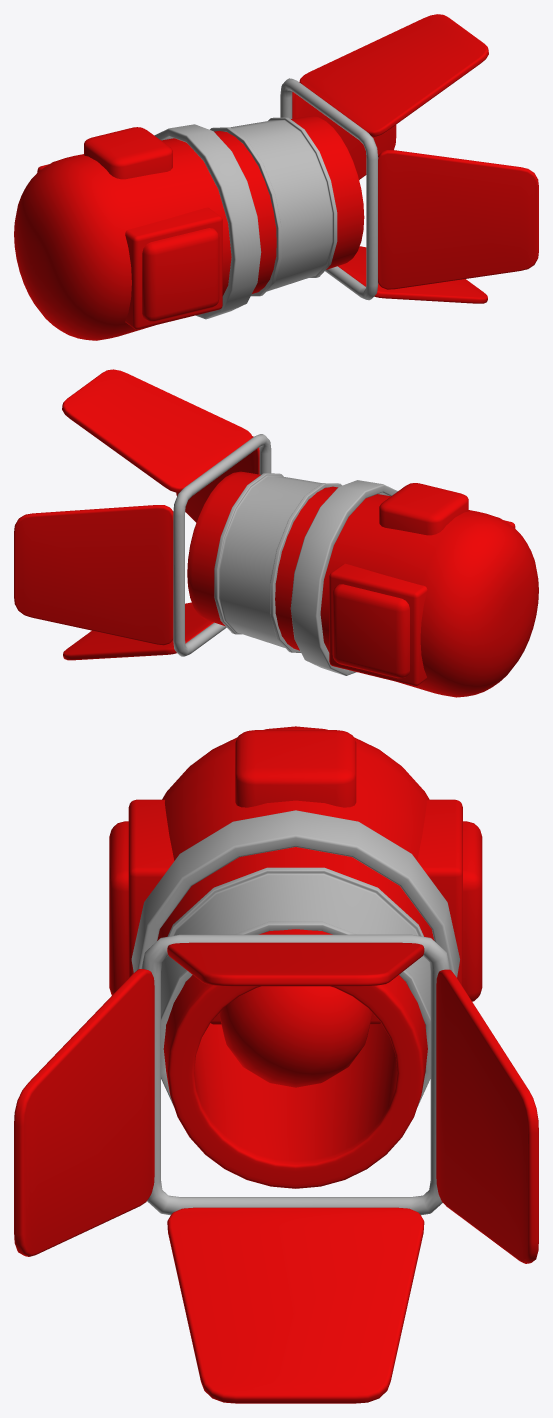
Rendered from ProjoMobile.fbx.
3 renders of one model, top to bottom at view 1: azimuth 30°, elevation 25°; view 2: azimuth 150°, elevation 25°; view 3: azimuth 270°, elevation 25°, orthographic. The views are drawn at different scales.
Visible parts, largest first — view 1: Cube.018; view 2: Cube.018; view 3: Cube.018.
Part boxes in pixels (x1=…): Cube.018: x1=14, y1=14, x2=538, y2=340; Cube.018: x1=14, y1=369, x2=538, y2=697; Cube.018: x1=14, y1=726, x2=538, y2=1403.
Size of the model in its own units: 107 by 60.69 by 67.37.
